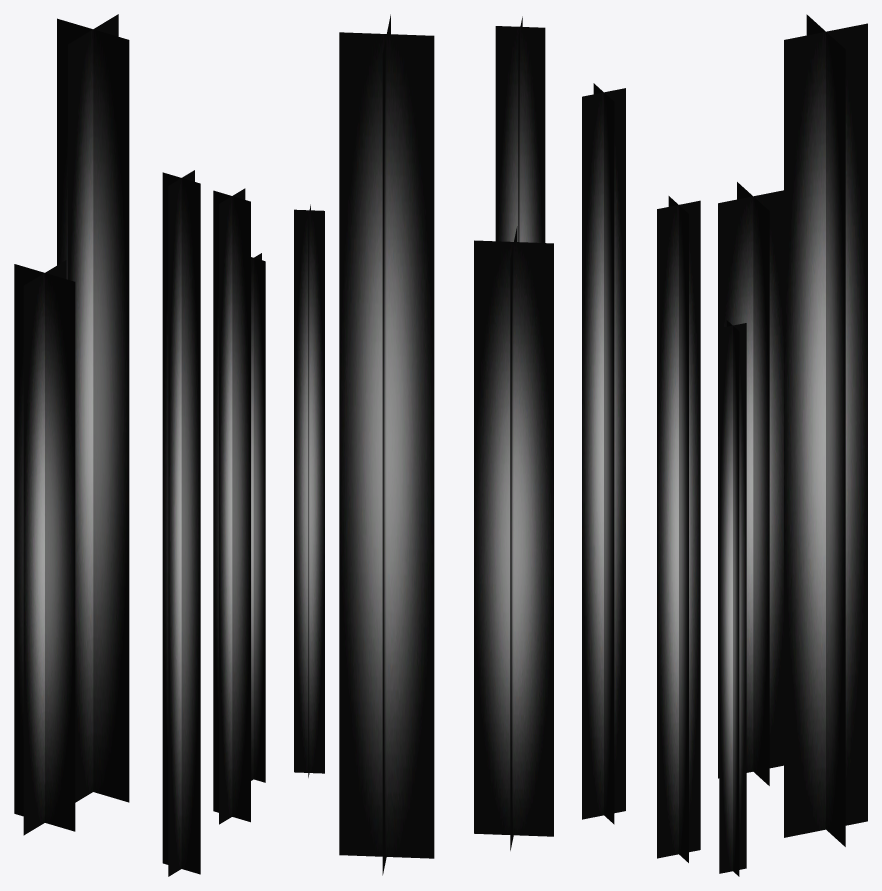
File: vfx_kurp_0207.dae
3 renders of one model, left to right at view 1: azimuth 30°, elevation 25°; view 2: azimuth 150°, elevation 25°; view 3: azimuth 270°, elevation 25°, orthographic. The views are drawn at different scales.
Visible parts, largest first — view 1: vfx_kurp_0207; view 2: vfx_kurp_0207; view 3: vfx_kurp_0207.
Part boxes in pixels (x1,y1,x2,y2): vfx_kurp_0207: [14, 14, 265, 876]; vfx_kurp_0207: [294, 14, 553, 875]; vfx_kurp_0207: [582, 14, 867, 876].
Size of the model in its own units: 8.92 by 8.81 by 27.13.
1 material, 1 textured.
